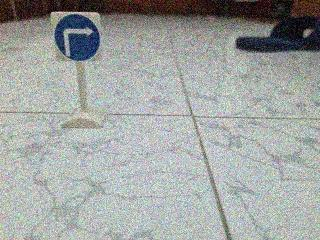right: (41, 2, 109, 66)
